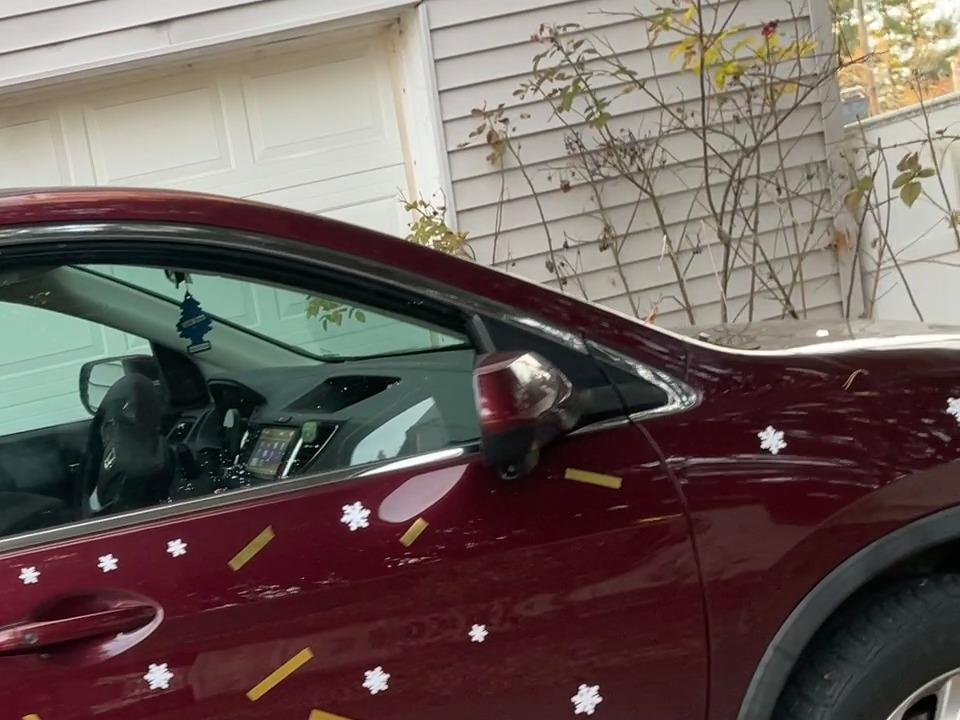dent: (569, 681, 607, 720), (142, 660, 178, 696), (754, 424, 792, 457), (339, 497, 374, 532), (362, 662, 395, 698), (94, 549, 121, 576), (18, 562, 43, 590), (467, 620, 491, 648), (165, 537, 190, 558)
scratch: (244, 641, 316, 703), (224, 522, 279, 574), (560, 460, 629, 494), (306, 706, 432, 720), (398, 513, 429, 549), (16, 706, 92, 720)
